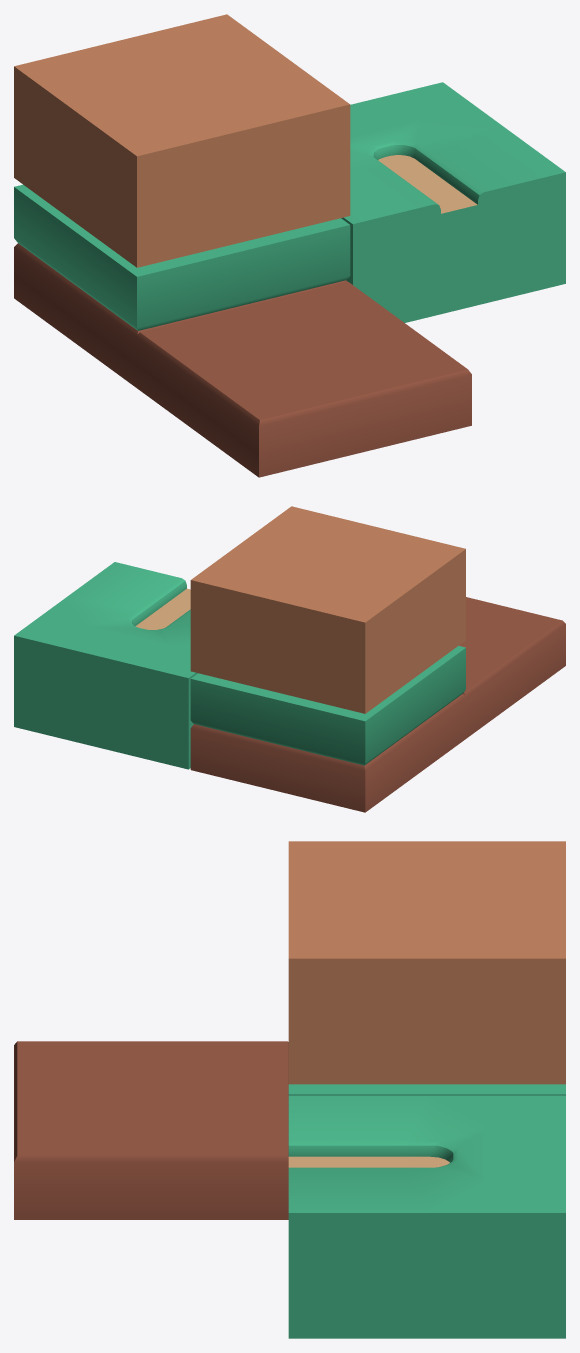
File: base_road_cube.glb
3 renders of one model, top to bottom at view 1: azimuth 30°, elevation 25°; view 2: azimuth 150°, elevation 25°; view 3: azimuth 270°, elevation 25°, orthographic. The views are drawn at different scales.
Parts seen in each view (by area): view 1: square_water_detail_empty; view 2: square_water_detail_empty; view 3: square_water_detail_empty.
Boxes of the visible parts, x1,y1,x2,y2 form: square_water_detail_empty: (14,14,565,477); square_water_detail_empty: (14,506,565,812); square_water_detail_empty: (14,841,565,1338).
Size of the model in its own units: 4.02 by 2.08 by 3.98.
